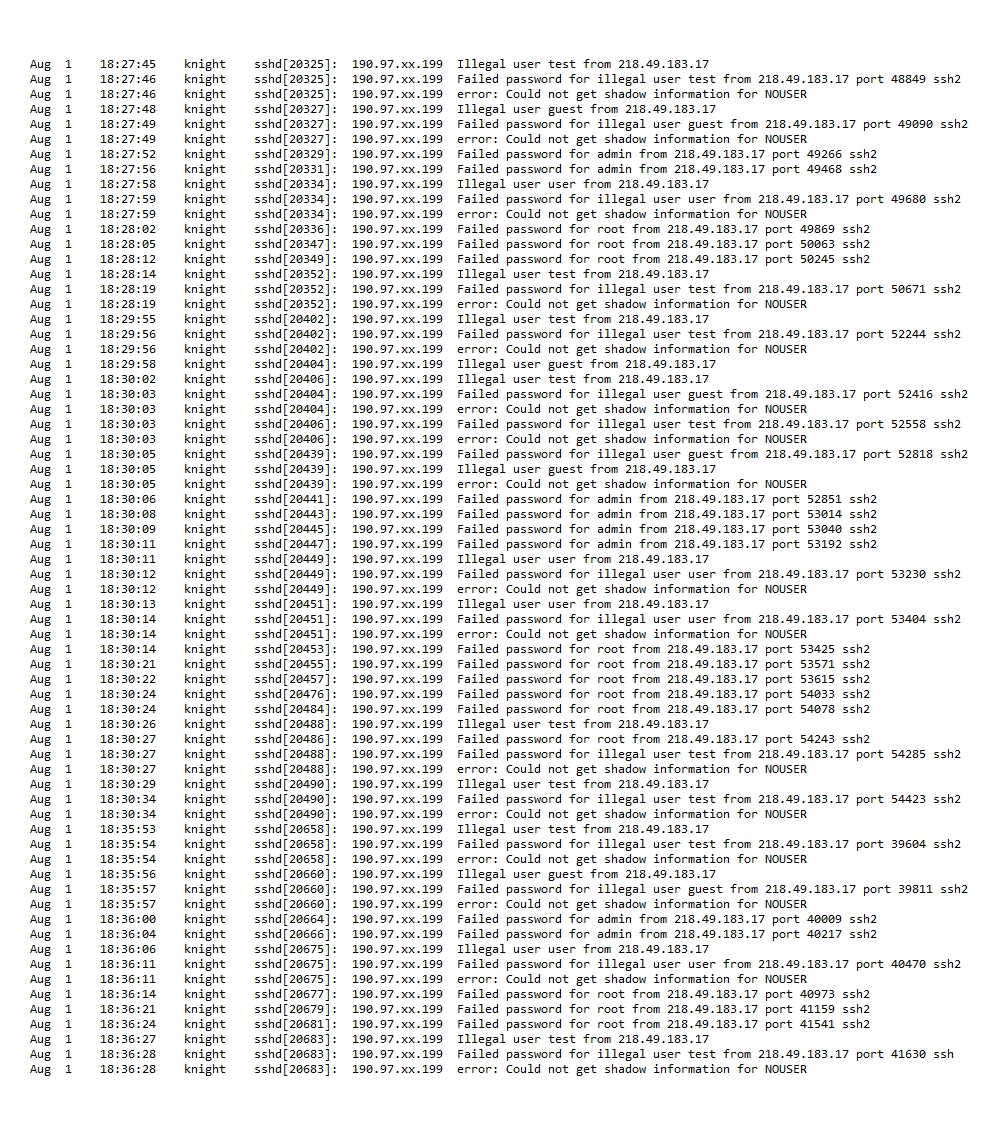table: (25, 55, 993, 1084)
